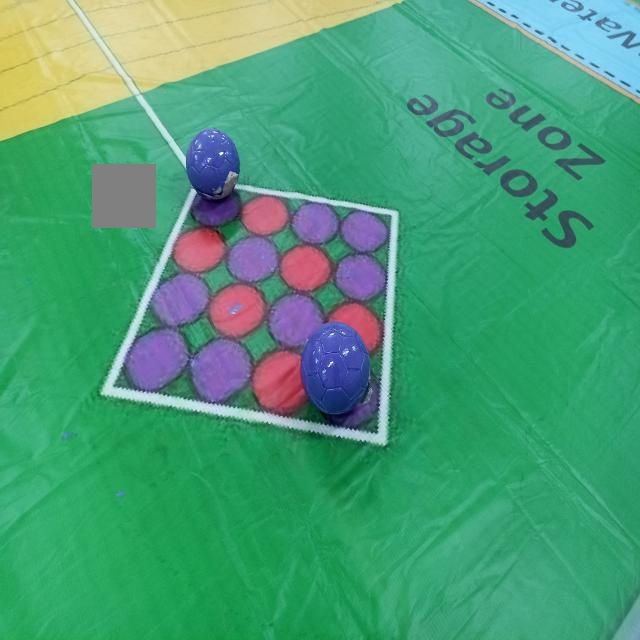purple_ball: (299, 316, 375, 415), (184, 126, 242, 200)
